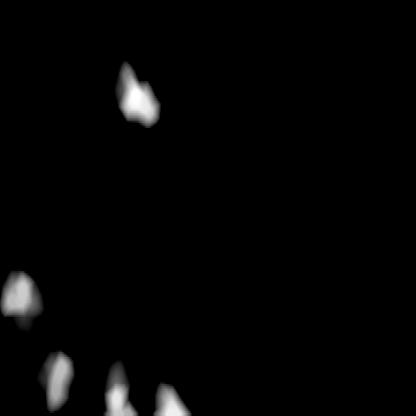fingers: (111, 59, 161, 128)
palm: (1, 270, 189, 414)
